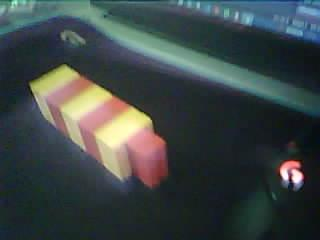lego: (29, 62, 170, 190)
